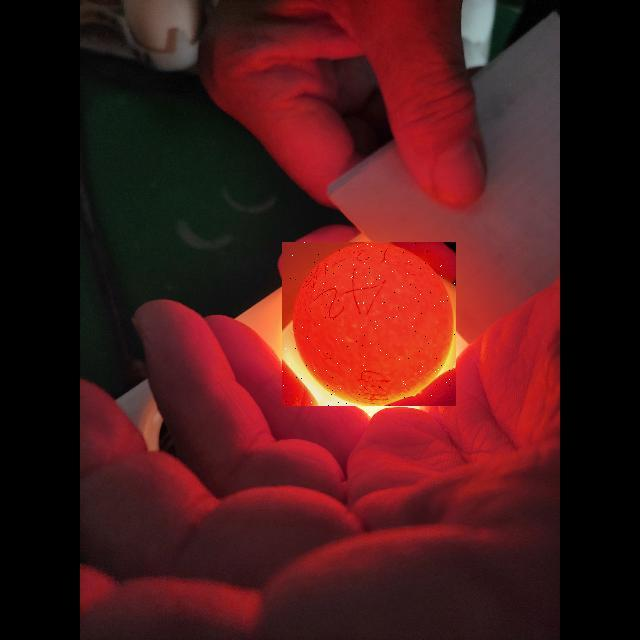Infertile: (282, 242, 456, 406)
